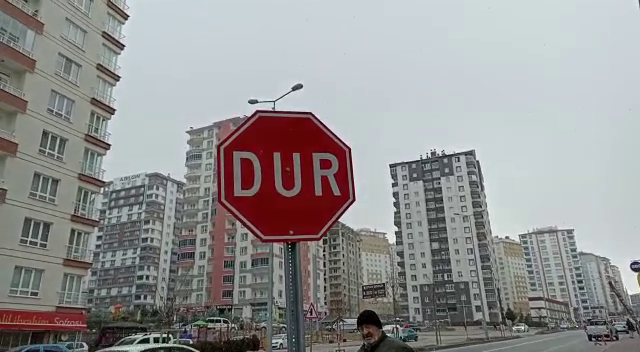stop: (214, 107, 358, 245)
